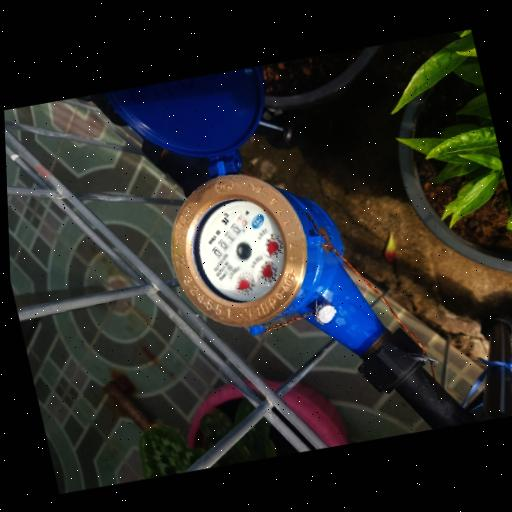0: (215, 236, 231, 252), (209, 245, 224, 260), (229, 221, 243, 237)
1: (221, 229, 238, 246), (235, 213, 249, 229)
border_water_meter_number: (199, 209, 261, 266)
